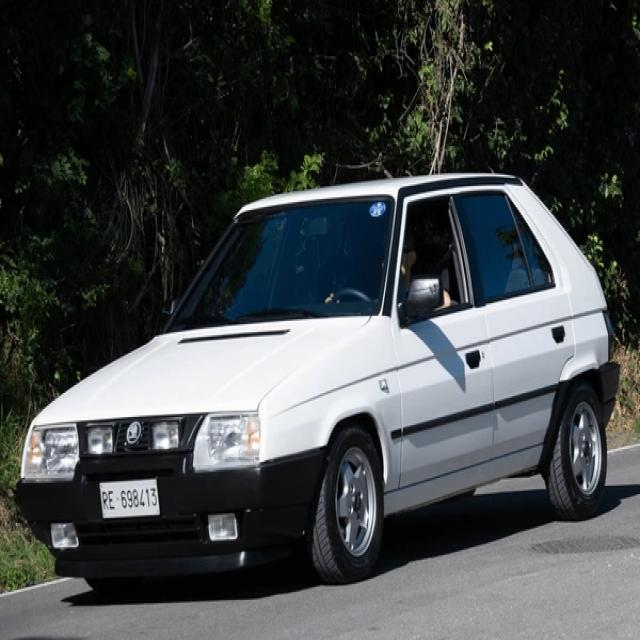skoda: (125, 420, 142, 442)
